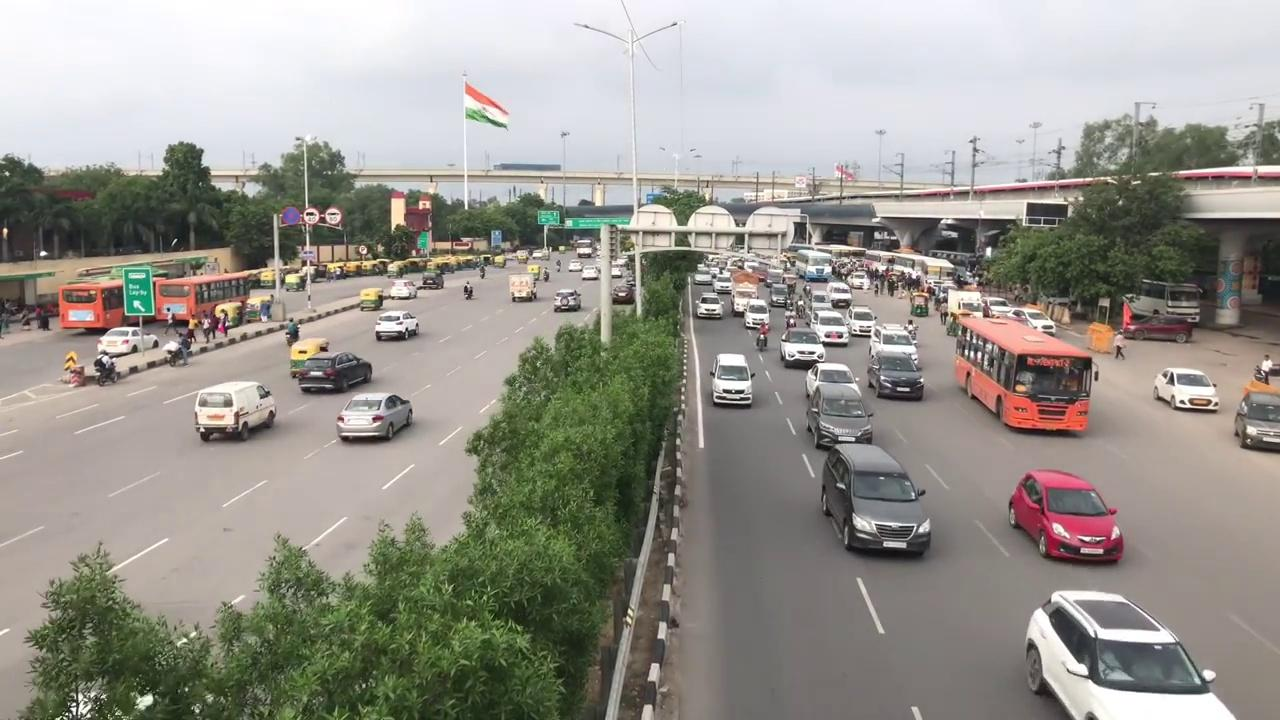Bike: (754, 319, 770, 352)
Bus: (954, 315, 1094, 436)
Car: (1023, 586, 1231, 719), (820, 440, 931, 555), (1009, 466, 1122, 563), (807, 381, 874, 451), (336, 386, 414, 442), (1154, 362, 1219, 414), (867, 348, 924, 401), (709, 351, 756, 408), (779, 325, 826, 369)
Truck: (508, 272, 538, 304)
